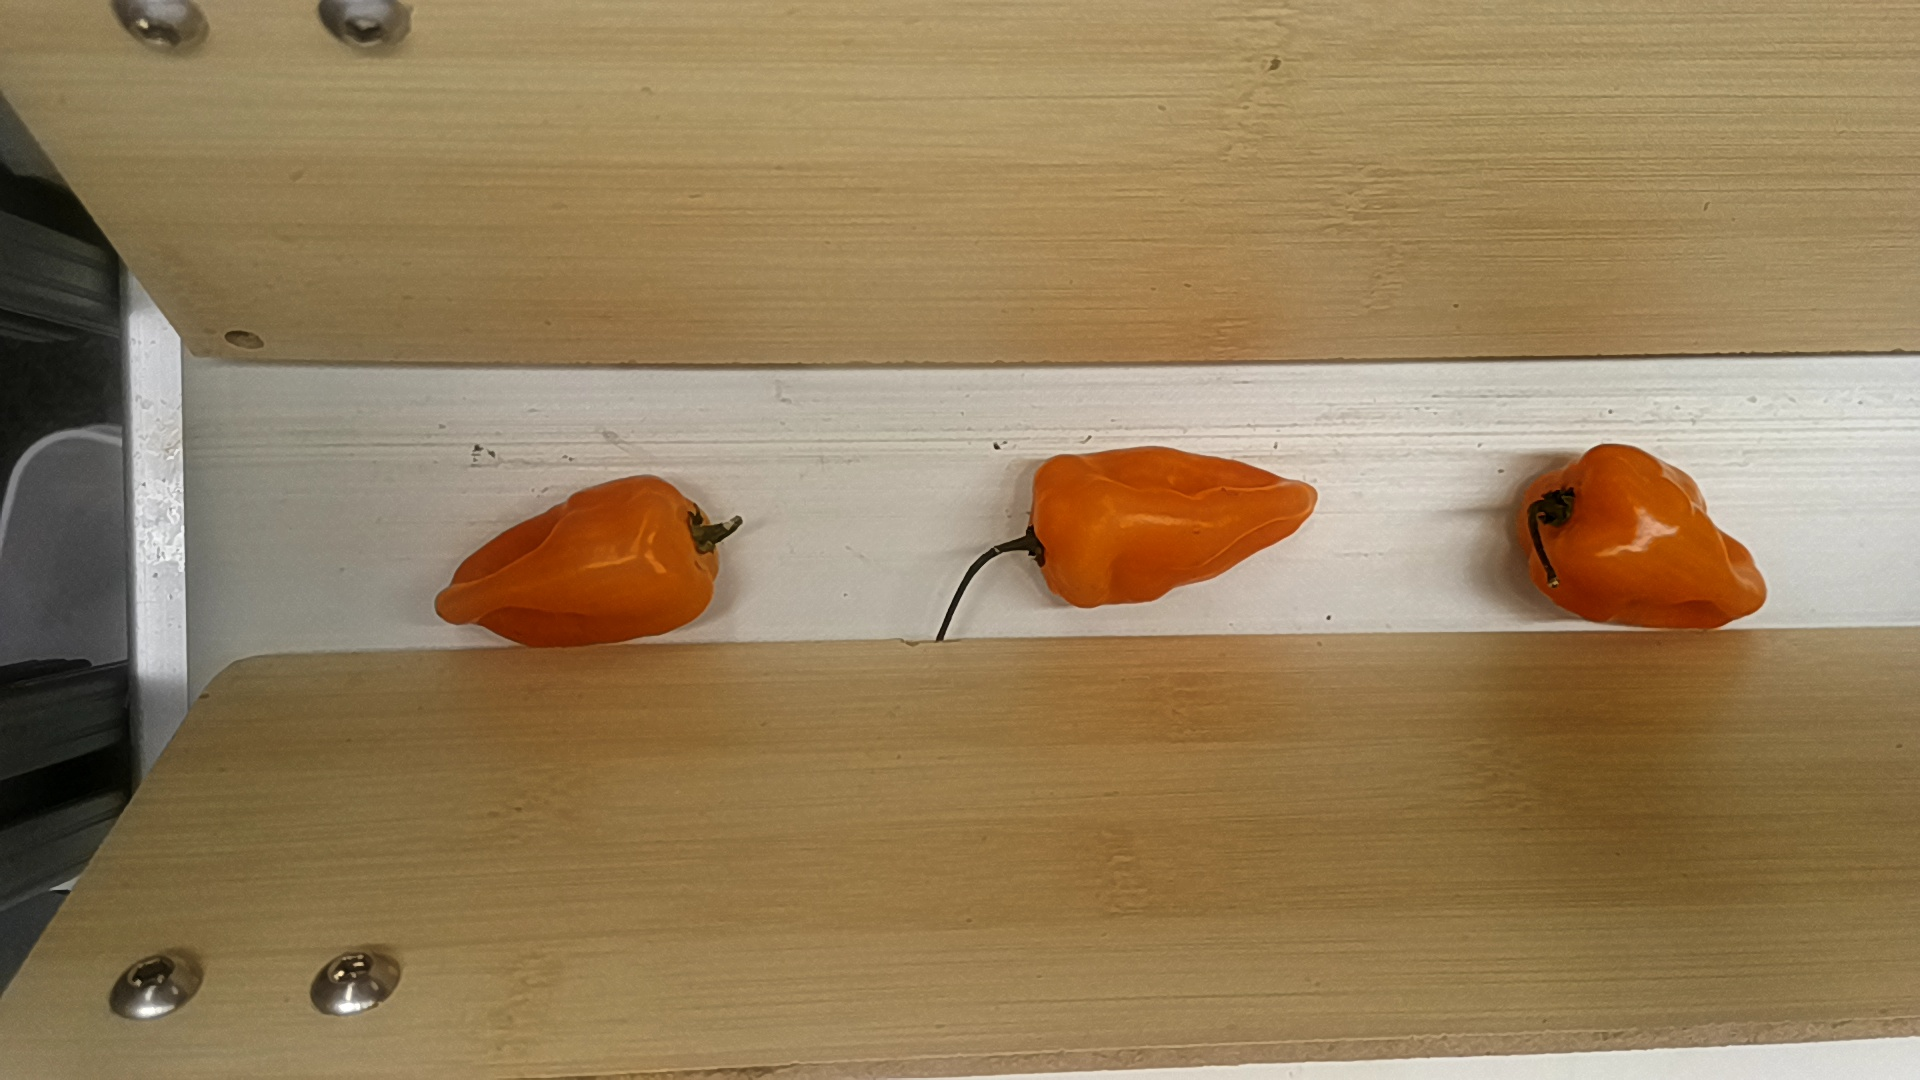Cut Point: (657, 464, 717, 620), (1540, 443, 1590, 611), (1025, 448, 1071, 617)
